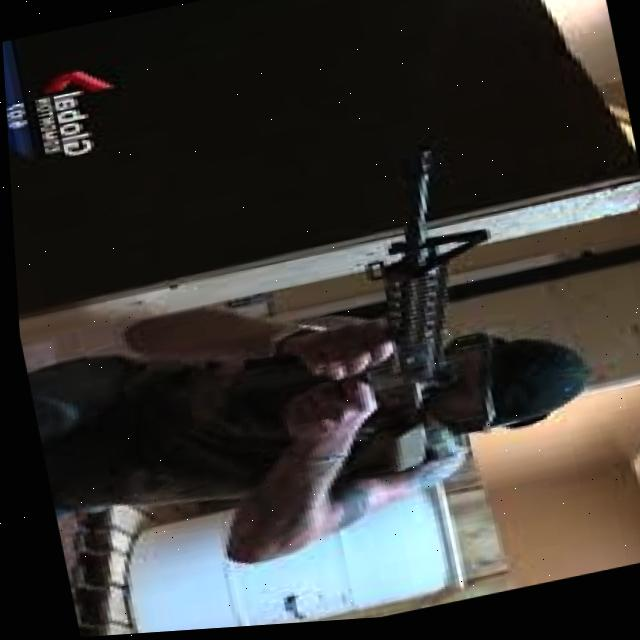firearm: (192, 136, 533, 509)
